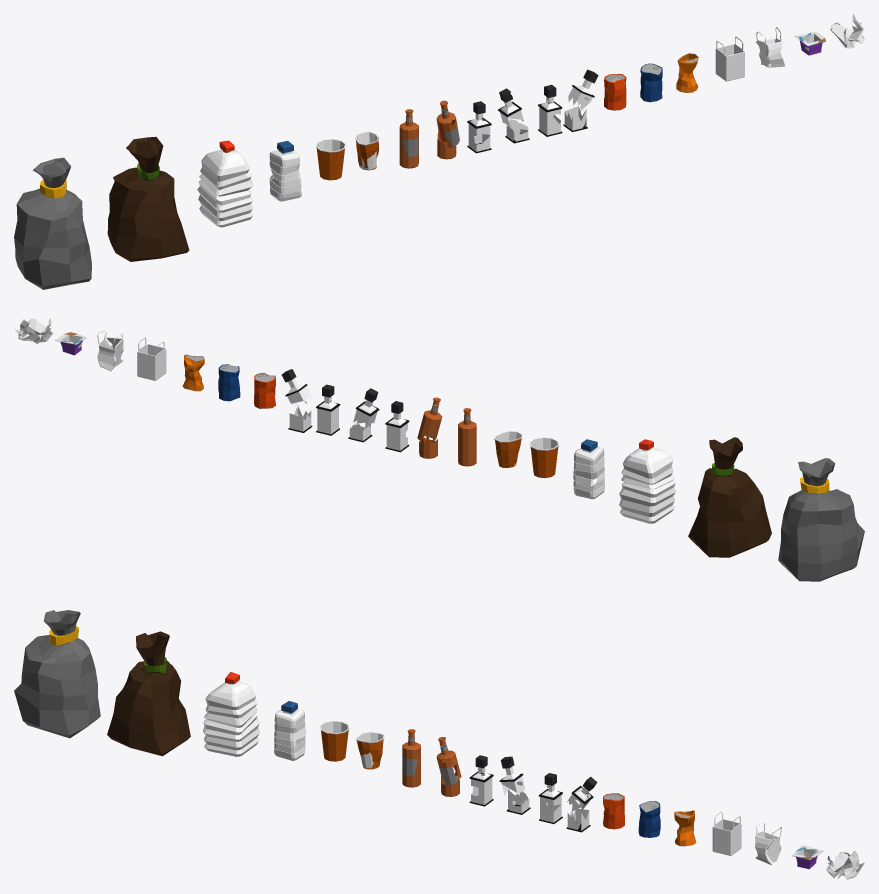
File: uploads_files_3984600_Trash.glb
The picture shows the model from 3 angles, top to bottom: view 1: azimuth 30°, elevation 25°; view 2: azimuth 150°, elevation 25°; view 3: azimuth 330°, elevation 25°; orthographic projection.
Visible parts, largest first — view 1: TrashBag_1, TrashBag_2, Bottle_Big, Bottle, WineBottleDamaged_Purple, Plasticbag_Undamaged, paperCup_Undamaged, KetchupBottle_Damaged, KetchupBottle_Undamaged, WineBottleDamaged_Green, WineBottle_Green, WineBottle_Purple (+6 smaller); view 2: TrashBag_1, TrashBag_2, Bottle_Big, Bottle, WineBottleDamaged_Purple, Plasticbag_Undamaged, paperCup_Undamaged, KetchupBottle_Damaged, KetchupBottle_Undamaged, WineBottleDamaged_Green, WineBottle_Purple, WineBottle_Green (+6 smaller); view 3: TrashBag_1, TrashBag_2, Bottle_Big, Bottle, WineBottleDamaged_Green, Plasticbag_Undamaged, paperCup_Undamaged, WineBottleDamaged_Purple, KetchupBottle_Damaged, KetchupBottle_Undamaged, WineBottle_Purple, WineBottle_Green (+6 smaller).
Boxes of the visible parts, <box> form: TrashBag_1: <box>14,157,91,289</box>; TrashBag_2: <box>107,136,189,261</box>; Bottle_Big: <box>197,140,253,227</box>; Bottle: <box>269,141,301,201</box>; WineBottleDamaged_Purple: <box>563,69,598,131</box>; Plasticbag_Undamaged: <box>715,36,744,81</box>; paperCup_Undamaged: <box>316,139,345,180</box>; KetchupBottle_Damaged: <box>436,100,459,159</box>; KetchupBottle_Undamaged: <box>399,109,418,168</box>; WineBottleDamaged_Green: <box>498,88,529,143</box>; WineBottle_Green: <box>467,101,491,153</box>; WineBottle_Purple: <box>538,84,562,136</box>; TrashBag_1: <box>778,458,864,581</box>; TrashBag_2: <box>688,437,771,557</box>; Bottle_Big: <box>619,439,675,523</box>; Bottle: <box>573,439,604,499</box>; WineBottleDamaged_Purple: <box>281,369,312,432</box>; Plasticbag_Undamaged: <box>137,337,166,380</box>; paperCup_Undamaged: <box>529,437,558,478</box>; KetchupBottle_Damaged: <box>417,397,442,458</box>; KetchupBottle_Undamaged: <box>458,408,476,466</box>; WineBottleDamaged_Green: <box>348,388,379,442</box>; WineBottle_Purple: <box>316,384,340,435</box>; WineBottle_Green: <box>385,401,409,452</box>; TrashBag_1: <box>14,610,100,738</box>; TrashBag_2: <box>107,631,190,756</box>; Bottle_Big: <box>203,672,259,756</box>; Bottle: <box>274,701,305,760</box>; WineBottleDamaged_Green: <box>499,756,530,814</box>; Plasticbag_Undamaged: <box>712,811,741,855</box>; paperCup_Undamaged: <box>320,721,349,761</box>; WineBottleDamaged_Purple: <box>566,776,597,832</box>; KetchupBottle_Damaged: <box>436,737,461,796</box>; KetchupBottle_Undamaged: <box>402,729,420,787</box>; WineBottle_Purple: <box>538,773,562,823</box>; WineBottle_Green: <box>469,755,493,806</box>.
Size of the model in its own units: 30.8 by 3.9 by 2.66.
Materials: 2 (1 with a texture image).
